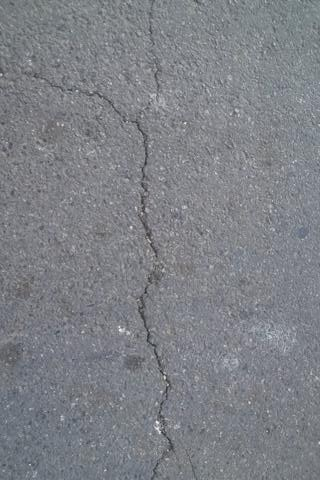A: (133, 1, 176, 480), (5, 64, 129, 127)
